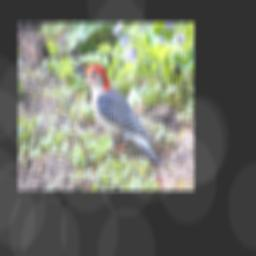Woodpecker: (71, 64, 162, 166)
